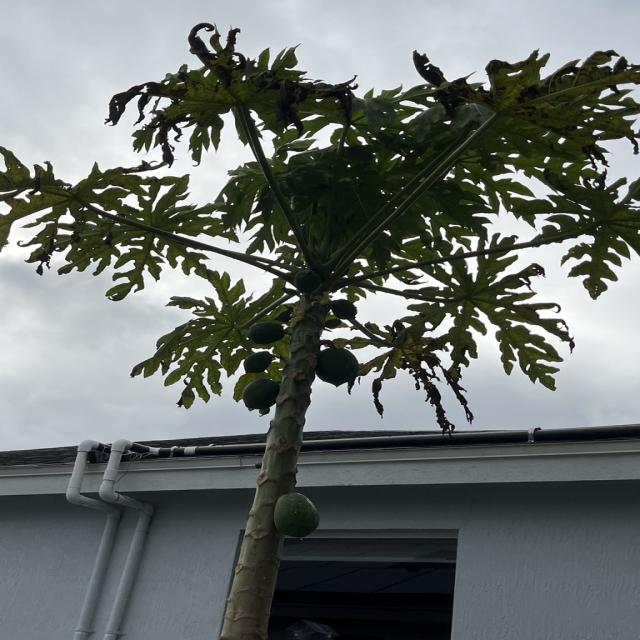Papaya-Tree: (39, 104, 563, 639)
